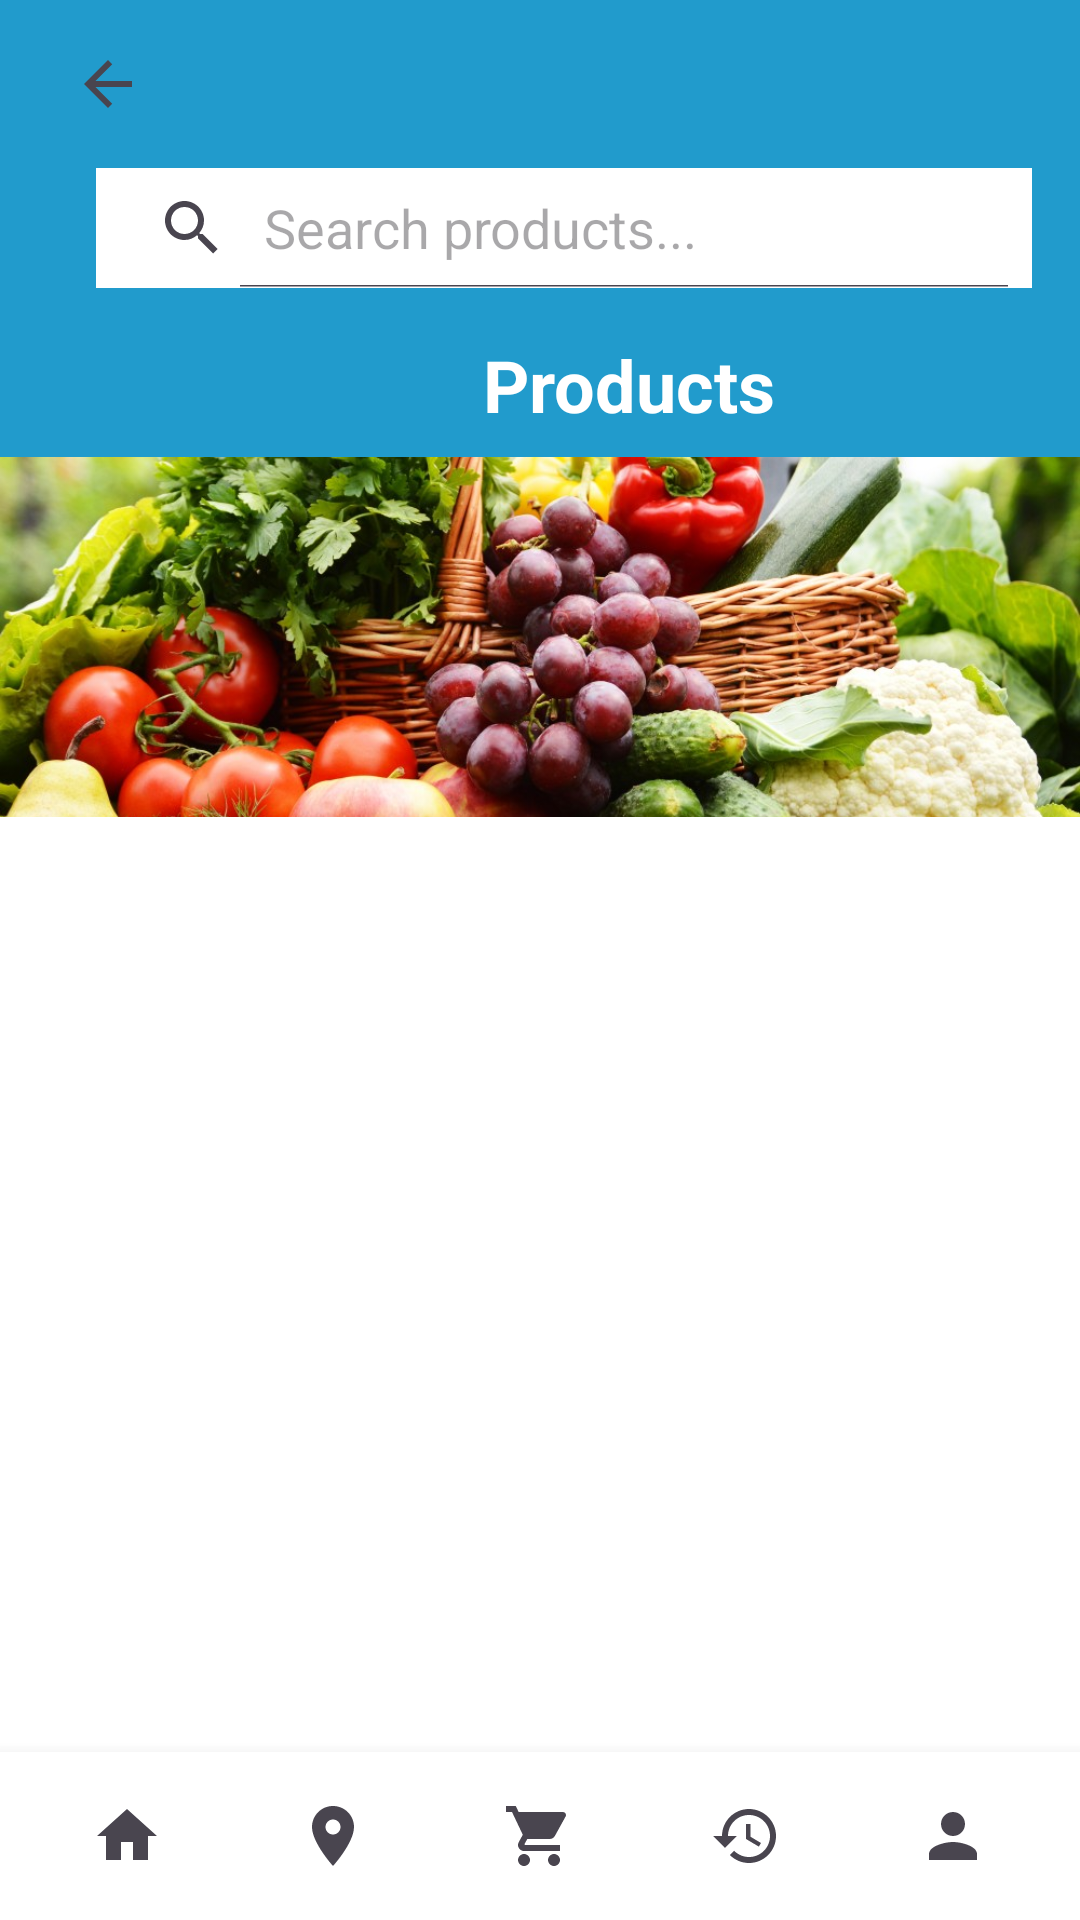

Where to tap for icons on this 1080 × 1920 app screen, as (x,y):
Back: (108,84)
Home: (127,1834)
Order History: (744,1836)
Shopping Cart: (536,1836)
Track Orders: (333,1836)
